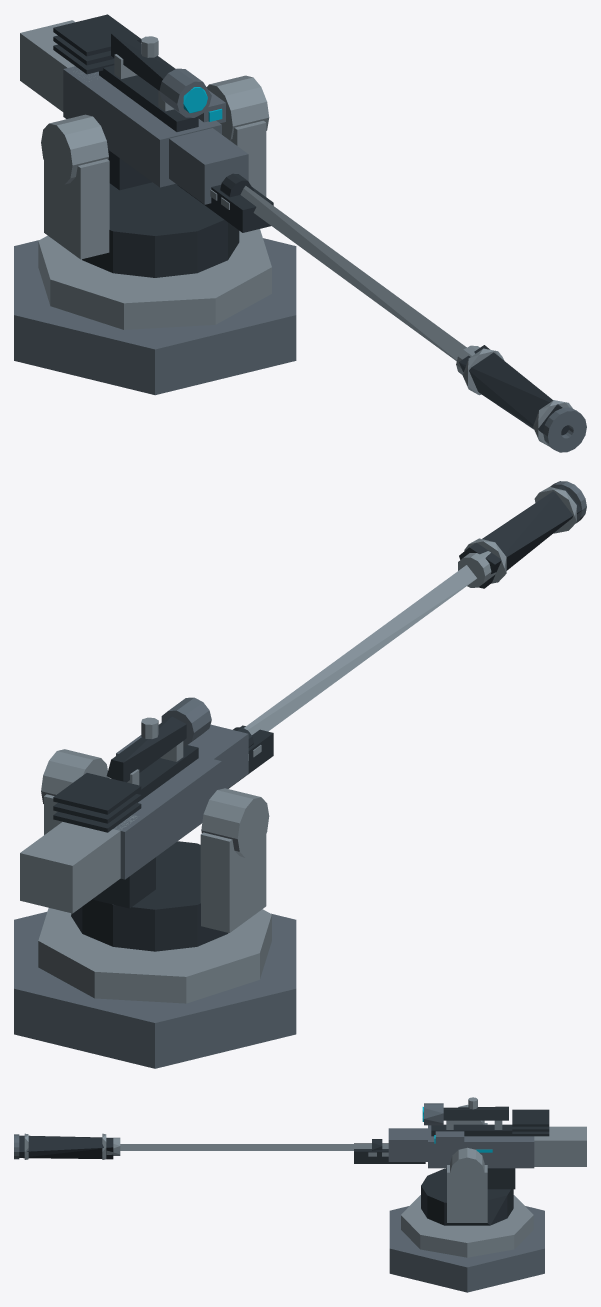
Rendered from needle_t3_d0.glb.
3 renders of one model, top to bottom at view 1: azimuth 30°, elevation 25°; view 2: azimuth 150°, elevation 25°; view 3: azimuth 270°, elevation 25°, orthographic. The views are drawn at different scales.
Visible parts, largest first — view 1: ROOT_ARMOR_GEOMETRY; view 2: ROOT_ARMOR_GEOMETRY; view 3: ROOT_ARMOR_GEOMETRY.
Boxes of the visible parts, x1,y1,x2,y2 form: ROOT_ARMOR_GEOMETRY: (14, 14, 586, 452); ROOT_ARMOR_GEOMETRY: (14, 481, 586, 1068); ROOT_ARMOR_GEOMETRY: (14, 1097, 586, 1292).
Size of the model in its own units: 1.55 by 1.48 by 4.96.
